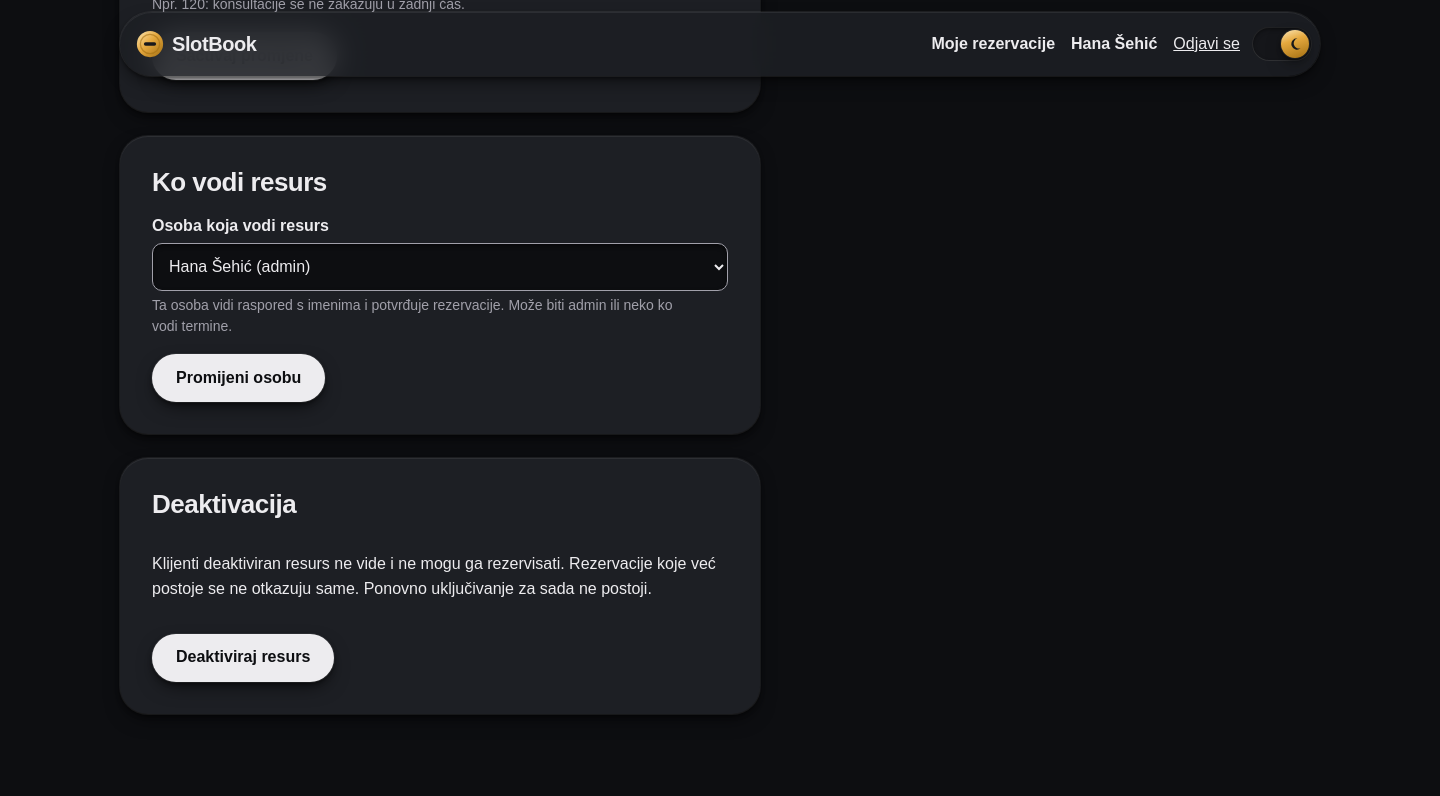
Test: deaktivacija › poslije potvrde resurs je deaktiviran, dugmeta više nema, a u listi piše deaktiviran
The image size is (1440, 796).
(page scrolled)
Click the button "Deaktiviraj resurs" at (243, 658), box [152,634,334,682]
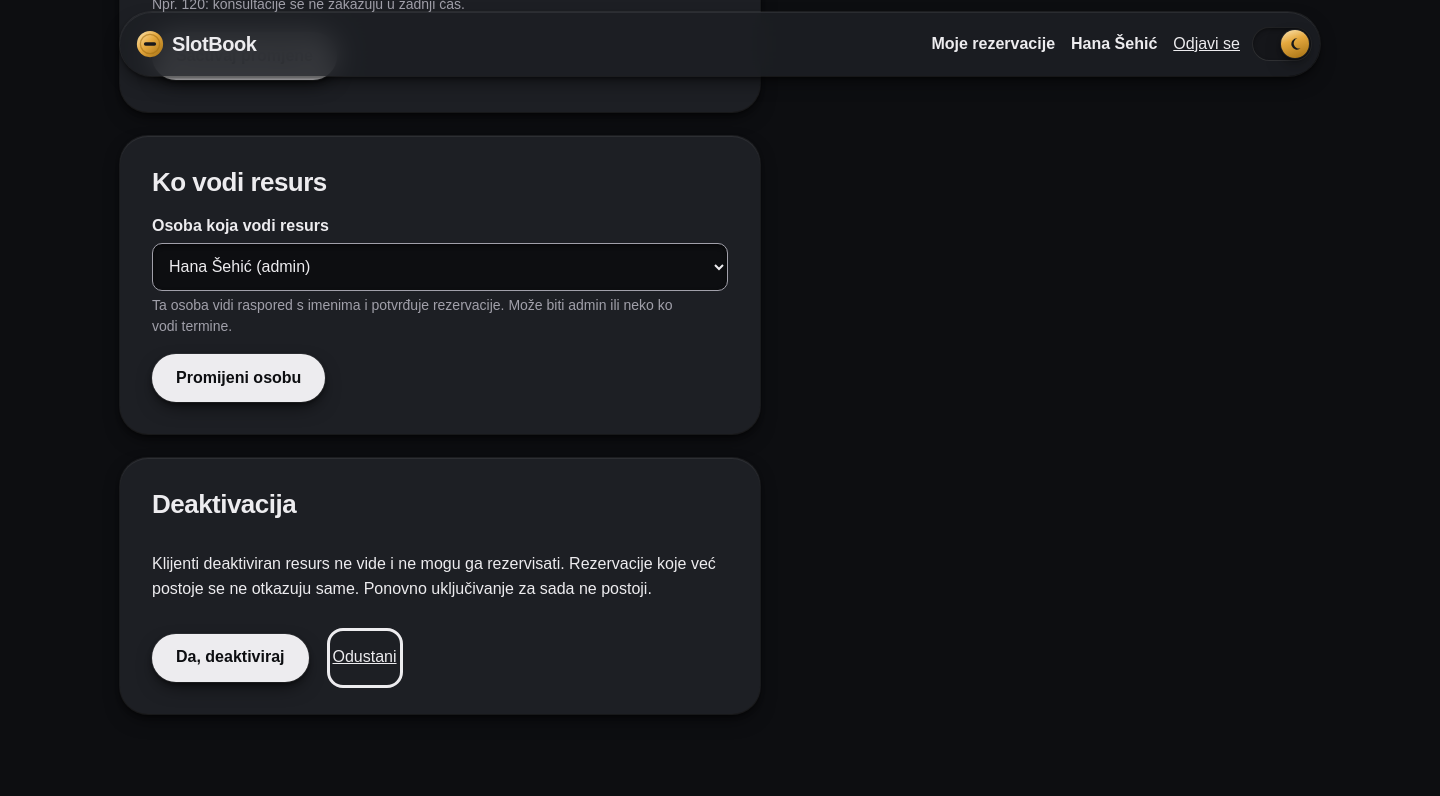
Now the button "Odustani" is shown, box [332,634,396,682]
Click the button "Da, deaktiviraj" at (230, 658), box [152,634,308,682]
(page scrolled)
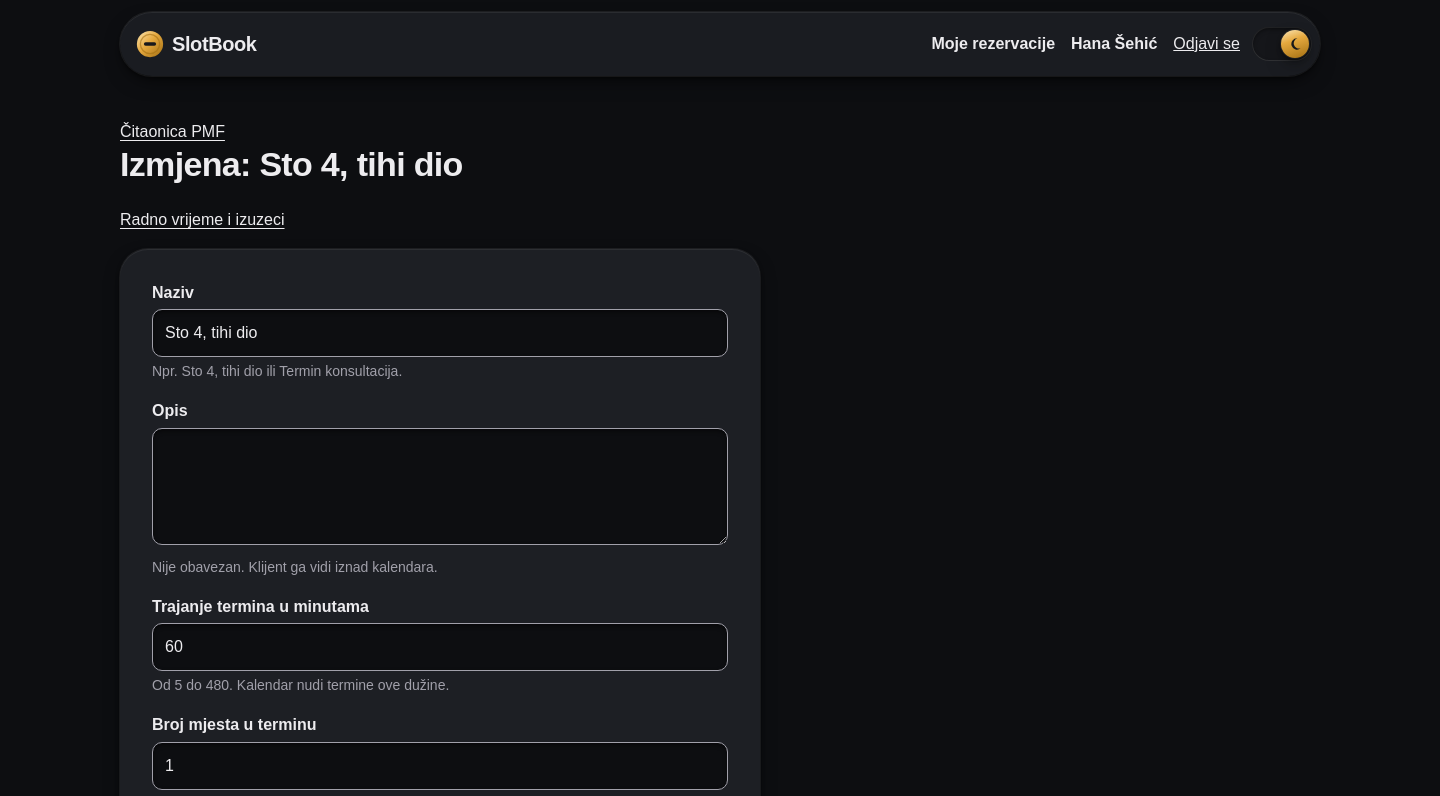
Expected: the button "Deaktiviraj resurs" is not shown
Click the link "Čitaonica PMF" at (172, 132), box [120,123,225,140]
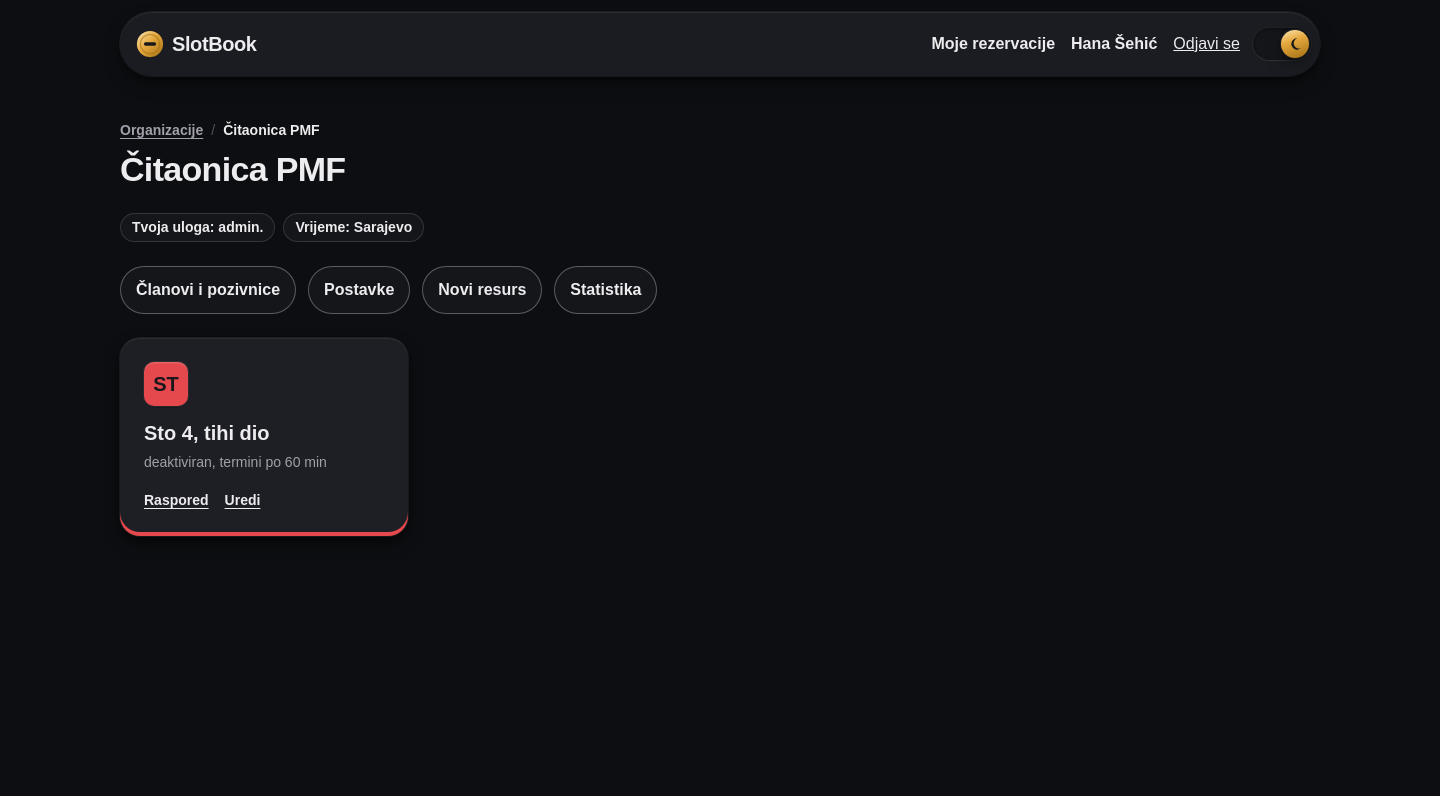
Now the text "deaktiviran, termini po 60 min" is shown, box [144,454,327,470]
